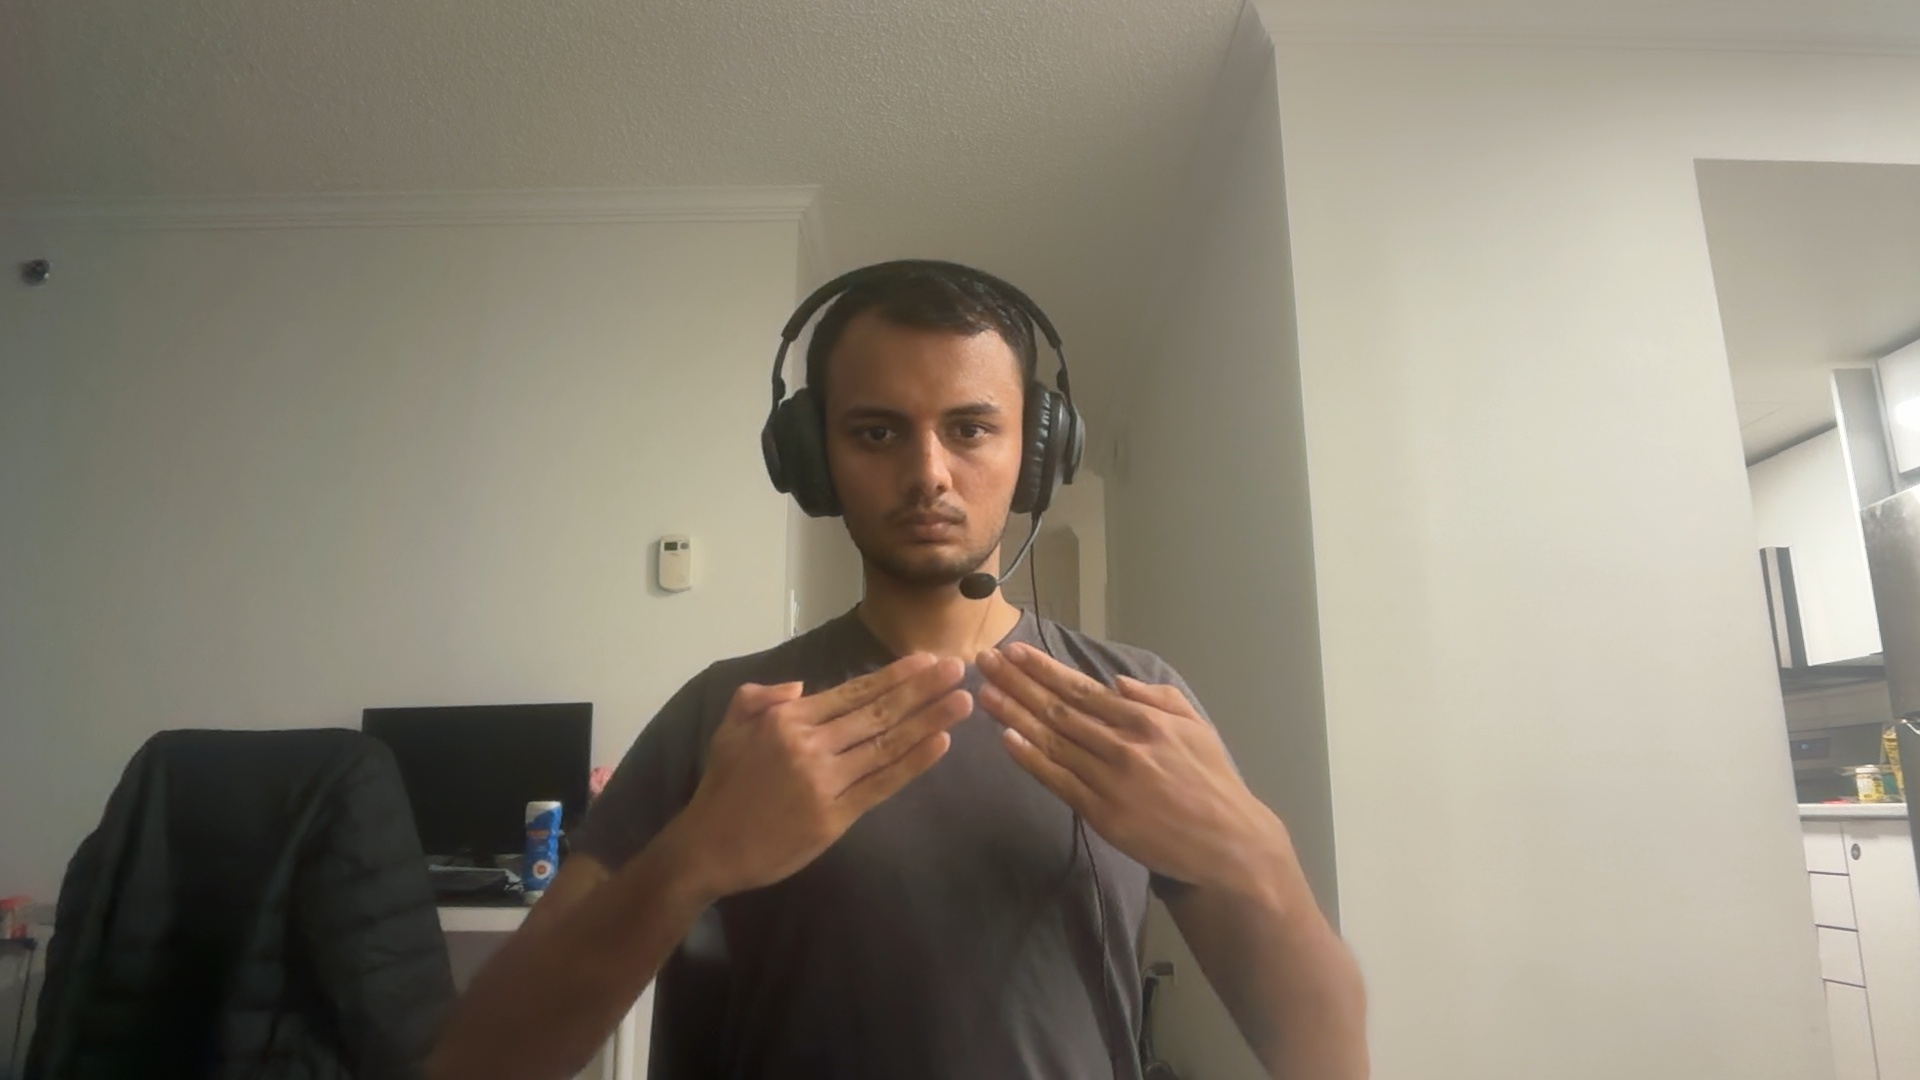thankyou: (698, 641, 1247, 898)
